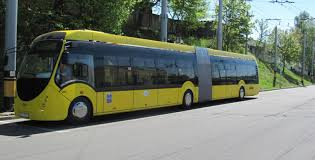bus: (14, 28, 261, 125)
